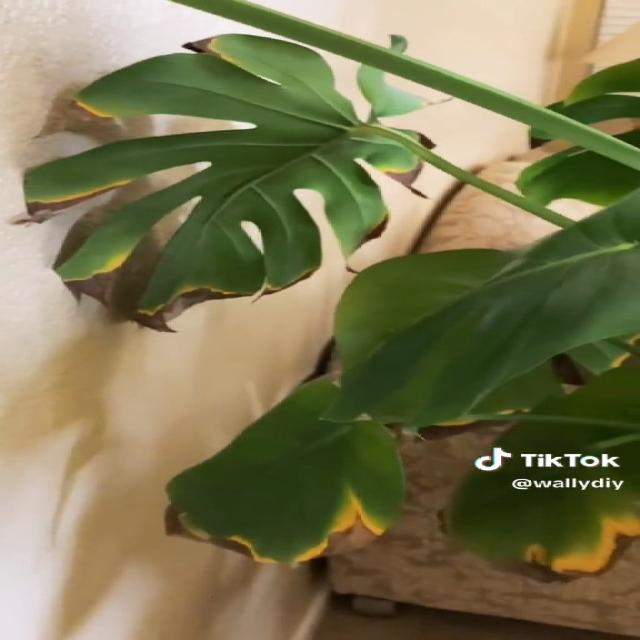lisc_suchy: (5, 33, 440, 334), (160, 361, 640, 587)
roslina_sucha: (22, 0, 640, 583)
